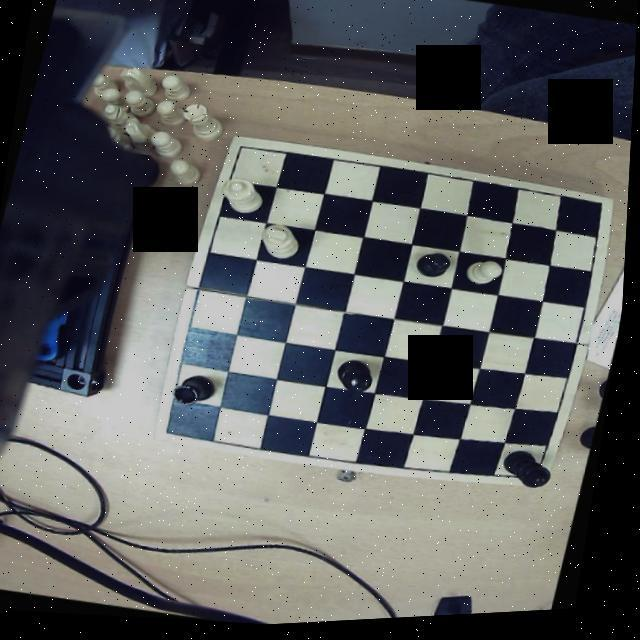chess-table-corners: (161, 416, 190, 443), (228, 138, 256, 163), (585, 199, 617, 220), (530, 467, 556, 490)
